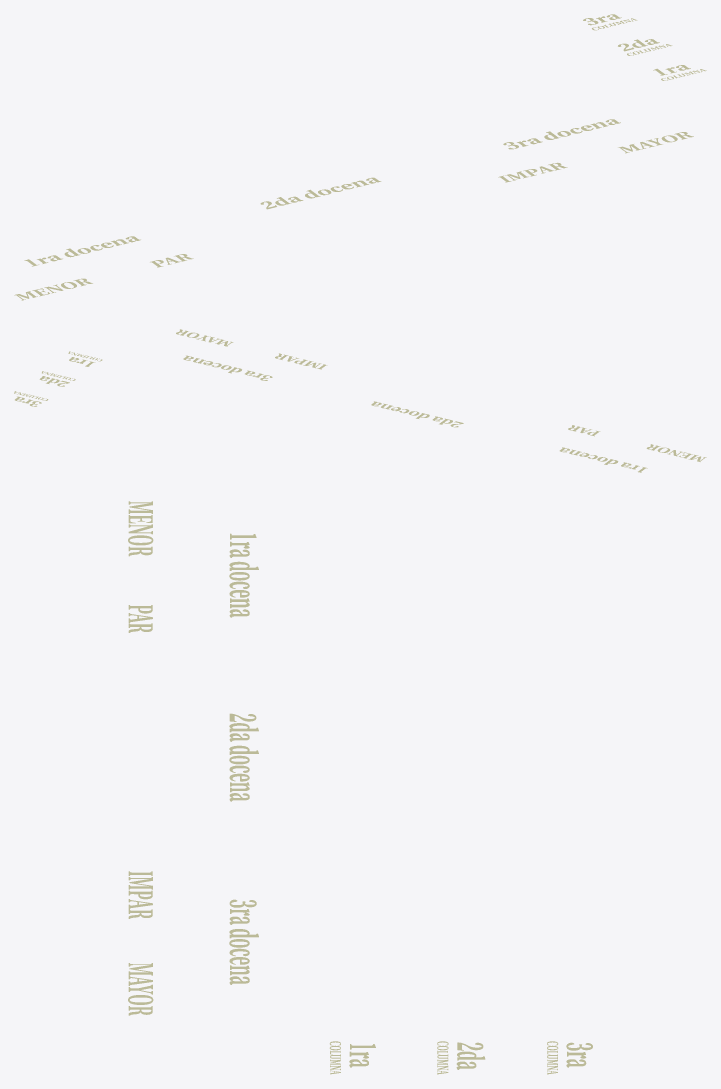
Rendered from RefeTexts.fbx.
3 views of the same model, one above another, from view 1: azimuth 30°, elevation 25°; view 2: azimuth 150°, elevation 25°; view 3: azimuth 270°, elevation 25° (orthographic). The views are drawn at different scales.
Parts seen in each view (by area): view 1: Texts; view 2: Texts; view 3: Texts.
Part boxes in pixels (x1,y1,x2,y2): Texts: [14, 14, 706, 300]; Texts: [14, 329, 706, 472]; Texts: [128, 501, 592, 1074].
Bounding box in the file's own units: 35.01 × 1.17e-06 × 12.
